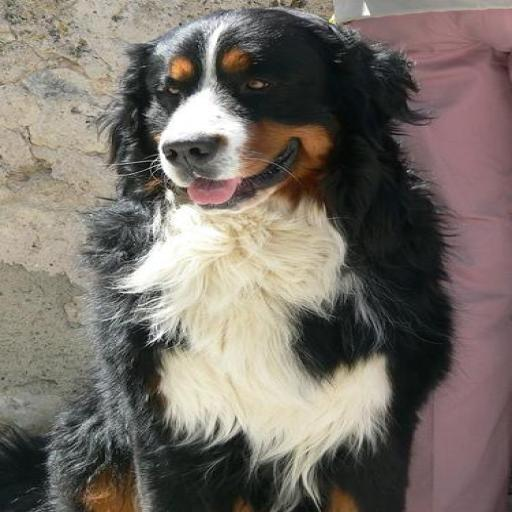dog_face: (121, 14, 396, 192)
